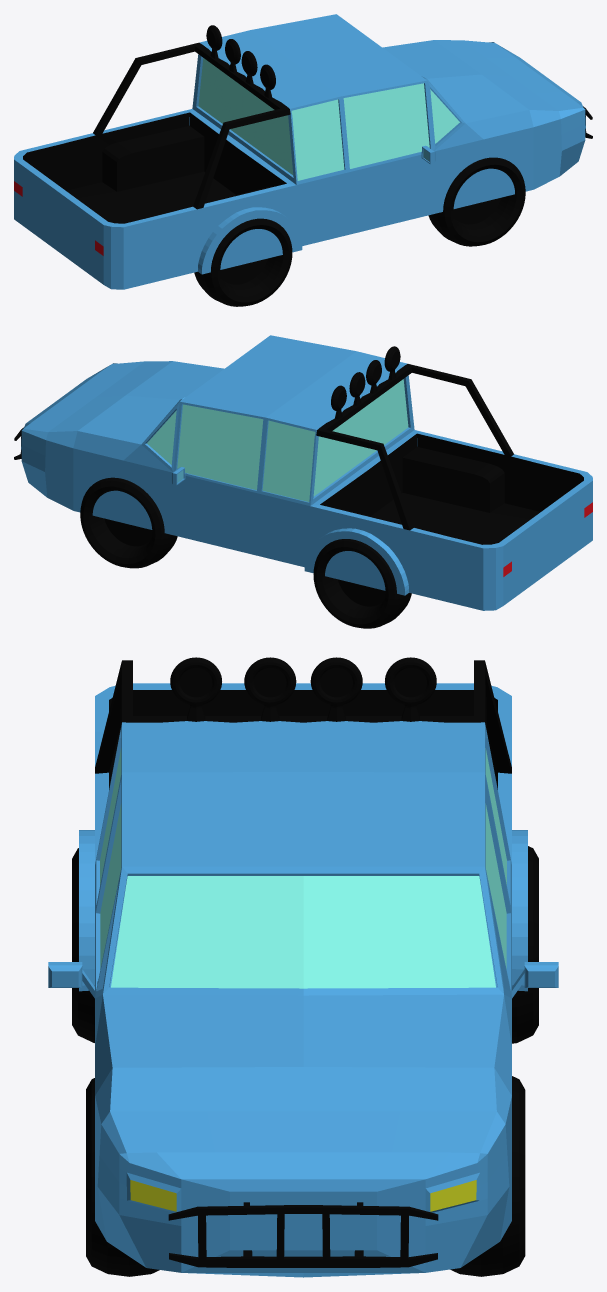
File: car2.fbx
The picture shows the model from 3 angles, top to bottom: view 1: azimuth 30°, elevation 25°; view 2: azimuth 150°, elevation 25°; view 3: azimuth 270°, elevation 25°; orthographic projection. The views are drawn at different scales.
Visible parts, largest first — view 1: Body, FrontRightMesh, BackRightMesh; view 2: Body, FrontLeftMesh, BackLeftMesh; view 3: Body, FrontLeftMesh, FrontRightMesh, BackLeftMesh, BackRightMesh.
Boxes of the visible parts, x1=… form: Body: x1=14, y1=14, x2=592, y2=289; FrontRightMesh: x1=428, y1=157, x2=525, y2=246; BackRightMesh: x1=194, y1=218, x2=292, y2=306; Body: x1=14, y1=335, x2=592, y2=610; FrontLeftMesh: x1=80, y1=477, x2=177, y2=568; BackLeftMesh: x1=313, y1=539, x2=411, y2=628; Body: x1=48, y1=657, x2=558, y2=1277; FrontLeftMesh: x1=450, y1=1076, x2=525, y2=1276; FrontRightMesh: x1=86, y1=1078, x2=159, y2=1276; BackLeftMesh: x1=512, y1=846, x2=538, y2=1043; BackRightMesh: x1=72, y1=848, x2=94, y2=1042.
Size of the model in its own units: 1680 by 740 by 677.
